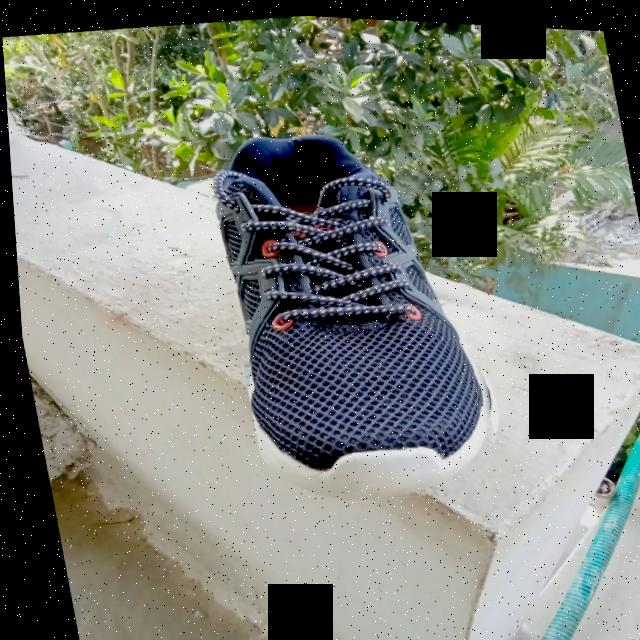shoe: (197, 105, 509, 515)
